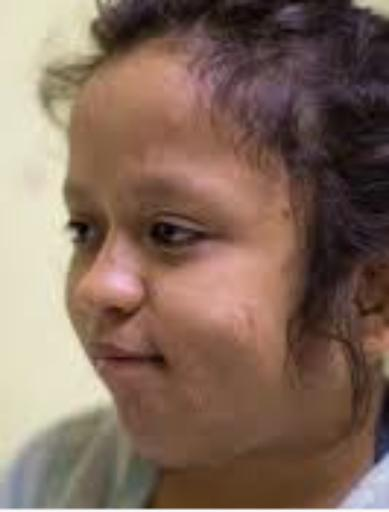left_eye: (147, 220, 214, 255)
left_lip_corner: (145, 348, 176, 374)
right_eye: (64, 220, 100, 247)
